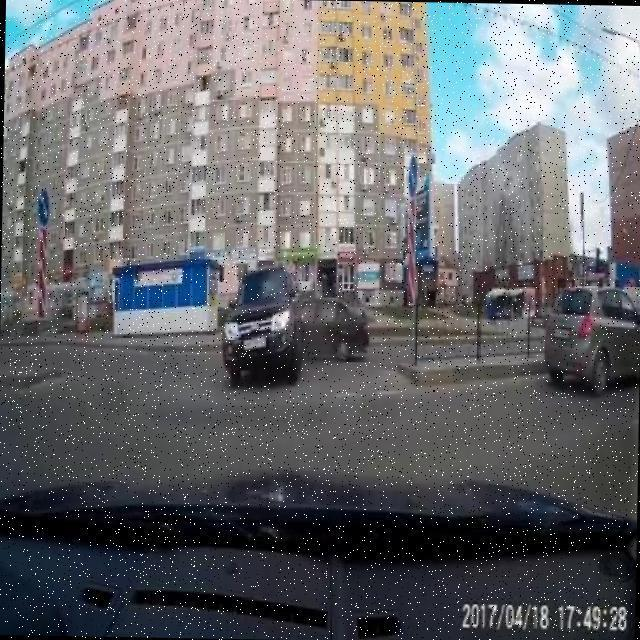accident: (218, 264, 372, 389)
